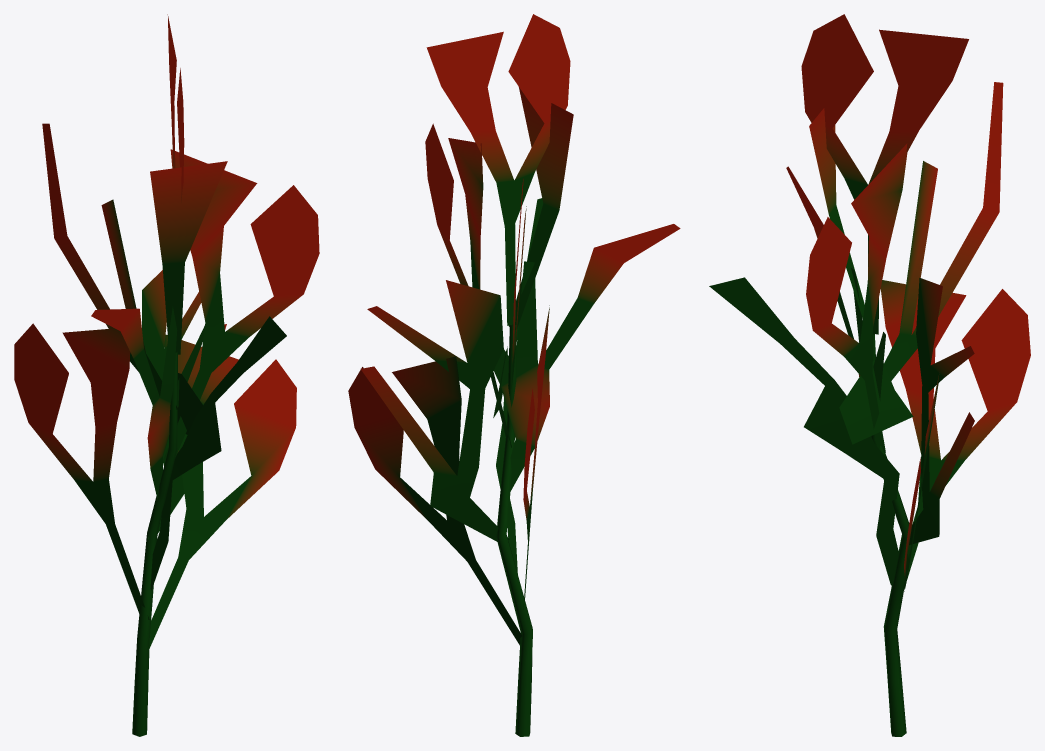
The model's file is Acacia_LOD0_Var7_semkO.fbx.
3 views of the same model, side by side, from view 1: azimuth 30°, elevation 25°; view 2: azimuth 150°, elevation 25°; view 3: azimuth 270°, elevation 25° (orthographic). The views are drawn at different scales.
Parts seen in each view (by area): view 1: _5c8f_Var7_LOD0; view 2: _5c8f_Var7_LOD0; view 3: _5c8f_Var7_LOD0.
Part boxes in pixels (x1,y1,x2,y2): _5c8f_Var7_LOD0: [14, 14, 319, 736]; _5c8f_Var7_LOD0: [348, 14, 680, 736]; _5c8f_Var7_LOD0: [709, 14, 1030, 736].
Bounding box in the file's own units: 31.8 × 78.09 × 31.28.
